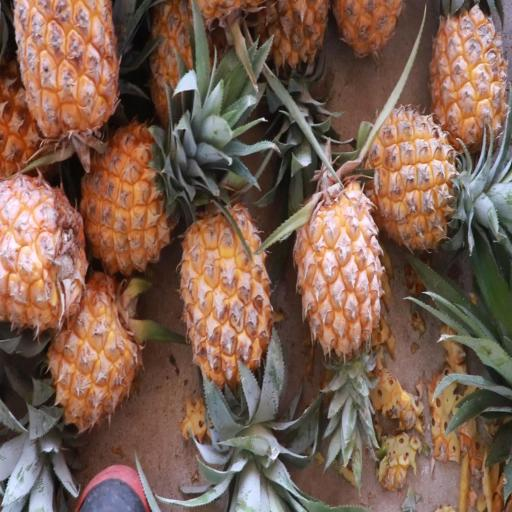Pineapple - v8 v1: (182, 199, 280, 402), (294, 170, 388, 362), (40, 263, 144, 433), (10, 0, 121, 155), (364, 100, 470, 256), (79, 114, 173, 279), (0, 168, 90, 334), (428, 0, 510, 160)
